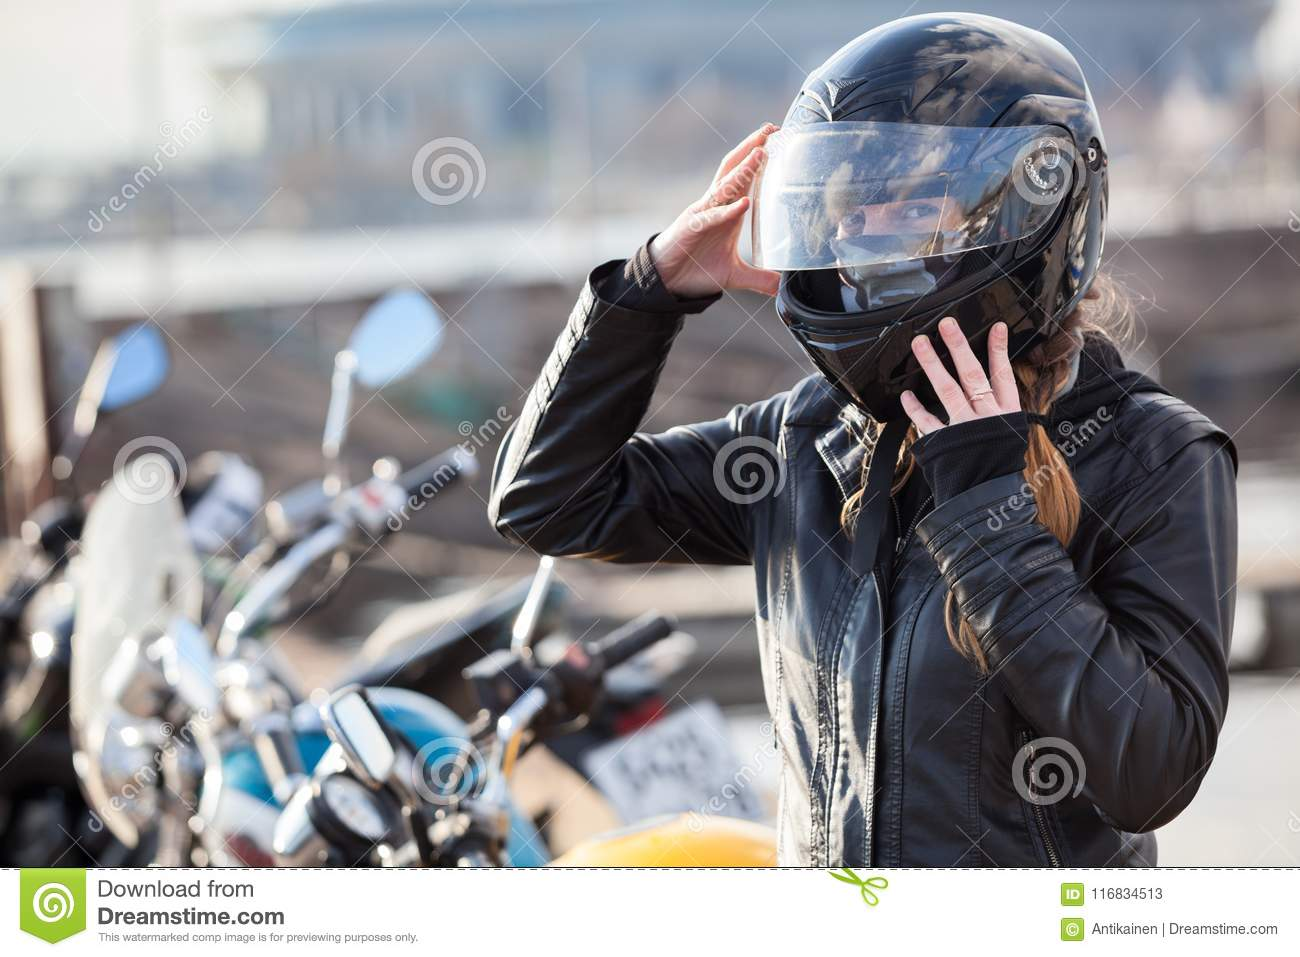helmet: (746, 8, 1110, 379)
